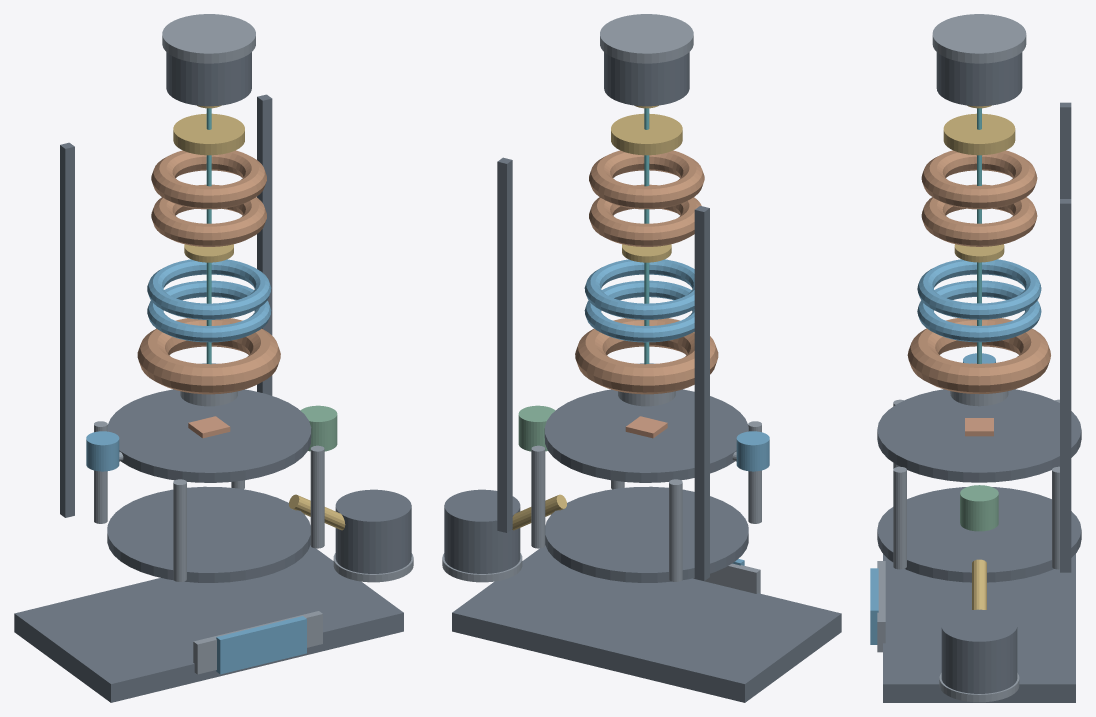
File: sem-exploded.glb
The picture shows the model from 3 angles, left to right: view 1: azimuth 30°, elevation 25°; view 2: azimuth 150°, elevation 25°; view 3: azimuth 270°, elevation 25°; orthographic projection.
Visible parts, largest first — view 1: Instrument base, Specimen chamber lower plate, Specimen chamber top plate, Objective lens, Vacuum pump body, Column support rail 1, Condenser lens upper, Scanning coil upper, Electron gun cap, Electron gun housing, Scanning coil lower, Control panel (+15 smaller); view 2: Instrument base, Specimen chamber lower plate, Specimen chamber top plate, Column support rail 1, Column support rail 2, Objective lens, Vacuum pump body, Condenser lens upper, Electron gun cap, Electron gun housing, Scanning coil upper, Scanning coil lower (+14 smaller); view 3: Instrument base, Specimen chamber top plate, Specimen chamber lower plate, Objective lens, Vacuum pump body, Condenser lens upper, Column support rail 2, Scanning coil upper, Electron gun cap, Electron gun housing, Scanning coil lower, Condenser lens lower (+13 smaller).
Boxes of the visible parts, x1,y1,x2,y2 form: Instrument base: (14, 545, 403, 702); Specimen chamber lower plate: (107, 486, 310, 582); Specimen chamber top plate: (107, 389, 311, 482); Objective lens: (137, 318, 280, 394); Vacuum pump body: (335, 489, 411, 573); Column support rail 1: (60, 142, 74, 517); Condenser lens upper: (151, 150, 266, 209); Scanning coil upper: (147, 259, 271, 319); Electron gun cap: (162, 14, 255, 63); Electron gun housing: (166, 52, 251, 106); Scanning coil lower: (147, 280, 271, 342); Control panel: (216, 616, 306, 674); Instrument base: (452, 545, 841, 702); Specimen chamber lower plate: (545, 486, 748, 582); Specimen chamber top plate: (544, 389, 748, 482); Column support rail 1: (694, 206, 709, 580); Column support rail 2: (497, 157, 512, 532); Objective lens: (575, 318, 718, 394); Vacuum pump body: (444, 489, 520, 573); Condenser lens upper: (589, 150, 704, 209); Electron gun cap: (600, 14, 693, 63); Electron gun housing: (604, 52, 689, 106); Scanning coil upper: (584, 259, 694, 319); Scanning coil lower: (584, 280, 694, 342); Instrument base: (883, 554, 1075, 702); Specimen chamber top plate: (877, 389, 1081, 482); Specimen chamber lower plate: (877, 487, 1081, 582); Objective lens: (907, 318, 1050, 394); Vacuum pump body: (941, 609, 1017, 693); Condenser lens upper: (921, 150, 1037, 209); Column support rail 2: (1060, 199, 1071, 572); Scanning coil upper: (917, 259, 1041, 319); Electron gun cap: (932, 14, 1026, 63); Electron gun housing: (936, 52, 1022, 106); Scanning coil lower: (917, 280, 1041, 342); Condenser lens lower: (921, 184, 1037, 246).
Bounding box in the file's own units: 5.78 × 9.56 × 3.06.
